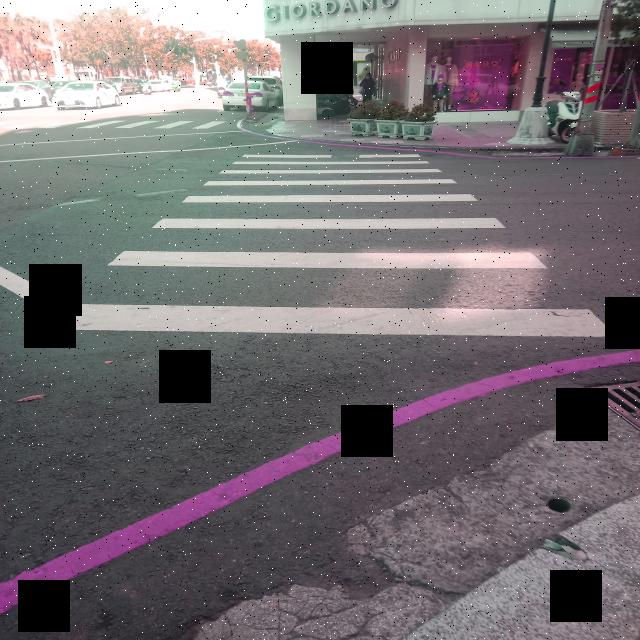zebra crossing: (31, 152, 623, 339), (64, 121, 224, 130)
